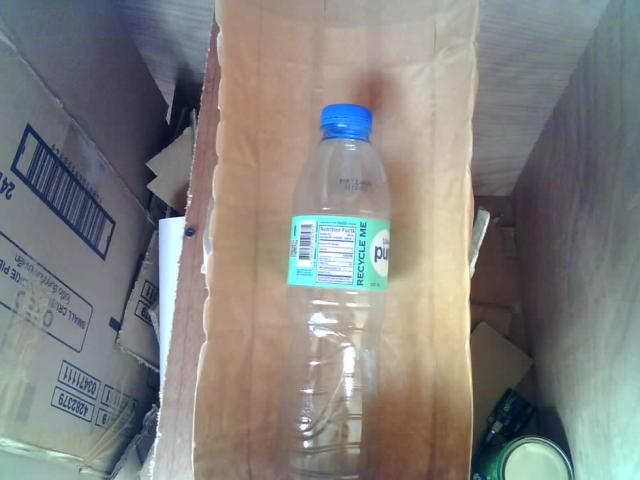small_bottle: (255, 86, 407, 480)
